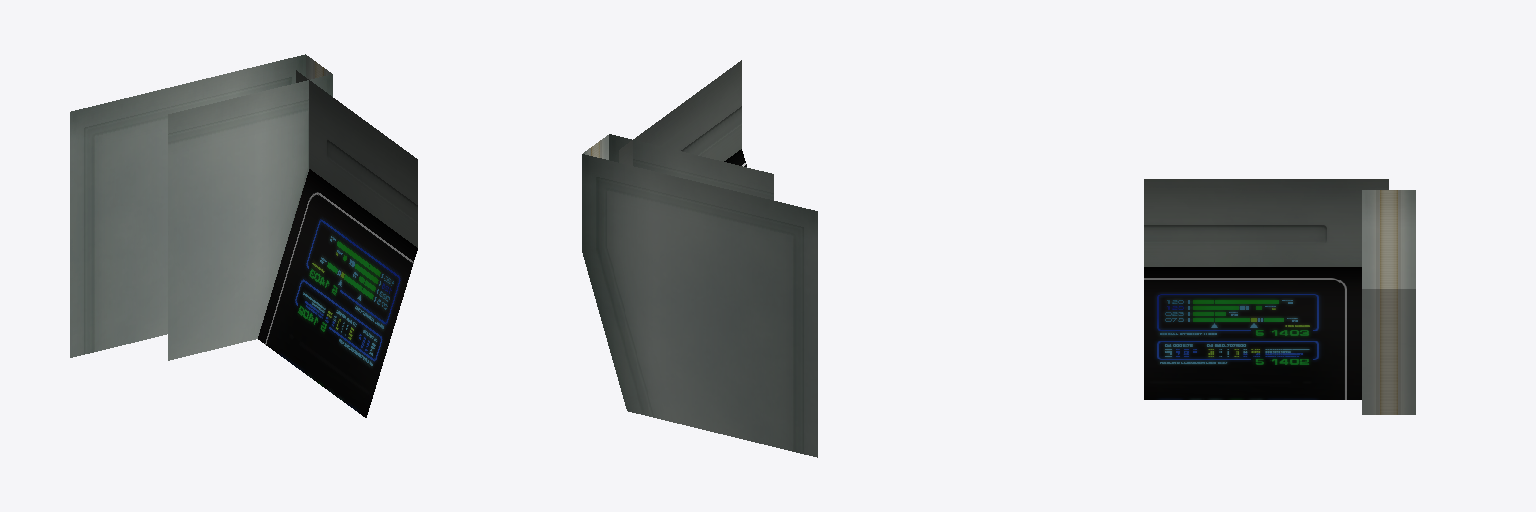
3 views of the same model, side by side, from view 1: azimuth 30°, elevation 25°; view 2: azimuth 150°, elevation 25°; view 3: azimuth 270°, elevation 25° (orthographic).
Visible parts, largest first — view 1: console_top_right_Cube.008; view 2: console_top_right_Cube.008; view 3: console_top_right_Cube.008.
Boxes of the visible parts, <box> form: console_top_right_Cube.008: <box>70,54,417,417</box>; console_top_right_Cube.008: <box>582,60,817,457</box>; console_top_right_Cube.008: <box>1144,179,1415,414</box>.
Bounding box in the file's own units: 1 × 1 × 1.
4 materials, 4 textured.